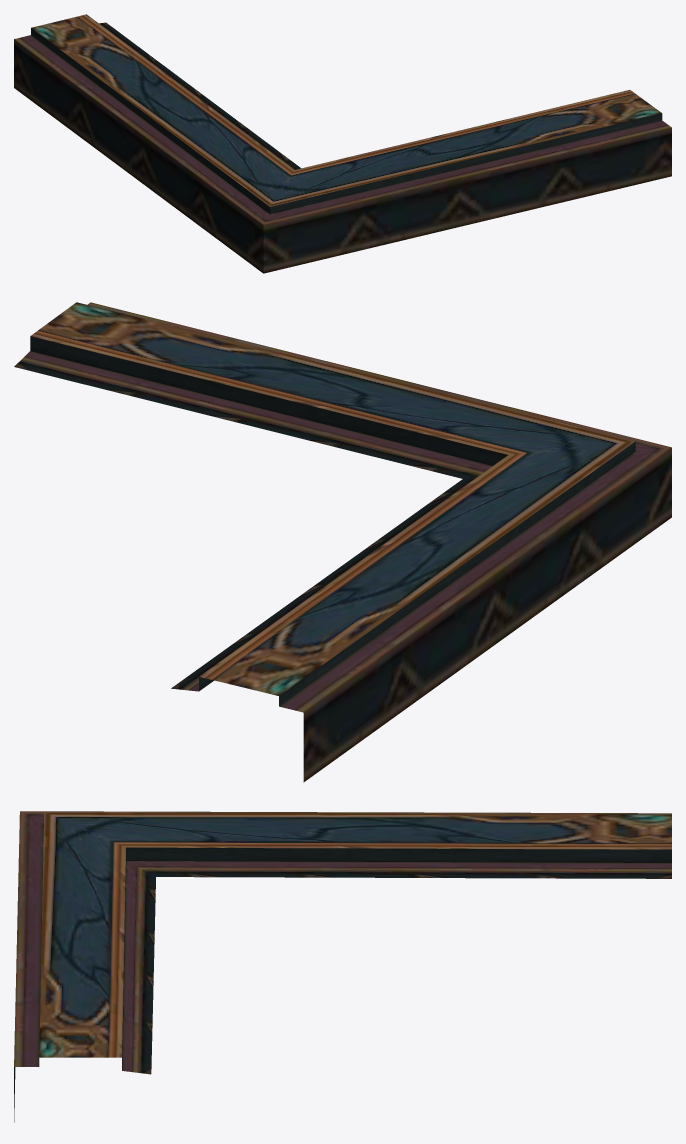
The model's file is Yland2_bj_02 Yland2.FBX.
3 renders of one model, top to bottom at view 1: azimuth 30°, elevation 25°; view 2: azimuth 150°, elevation 25°; view 3: azimuth 270°, elevation 25°, orthographic. The views are drawn at different scales.
Visible parts, largest first — view 1: Yland2_bj_02 Yland2; view 2: Yland2_bj_02 Yland2; view 3: Yland2_bj_02 Yland2.
Part boxes in pixels (x1,y1,x2,y2): Yland2_bj_02 Yland2: (14,14,671,273); Yland2_bj_02 Yland2: (14,302,671,782); Yland2_bj_02 Yland2: (14,811,671,1122).
Size of the model in its own units: 3.9 by 0.5132 by 4.24.
